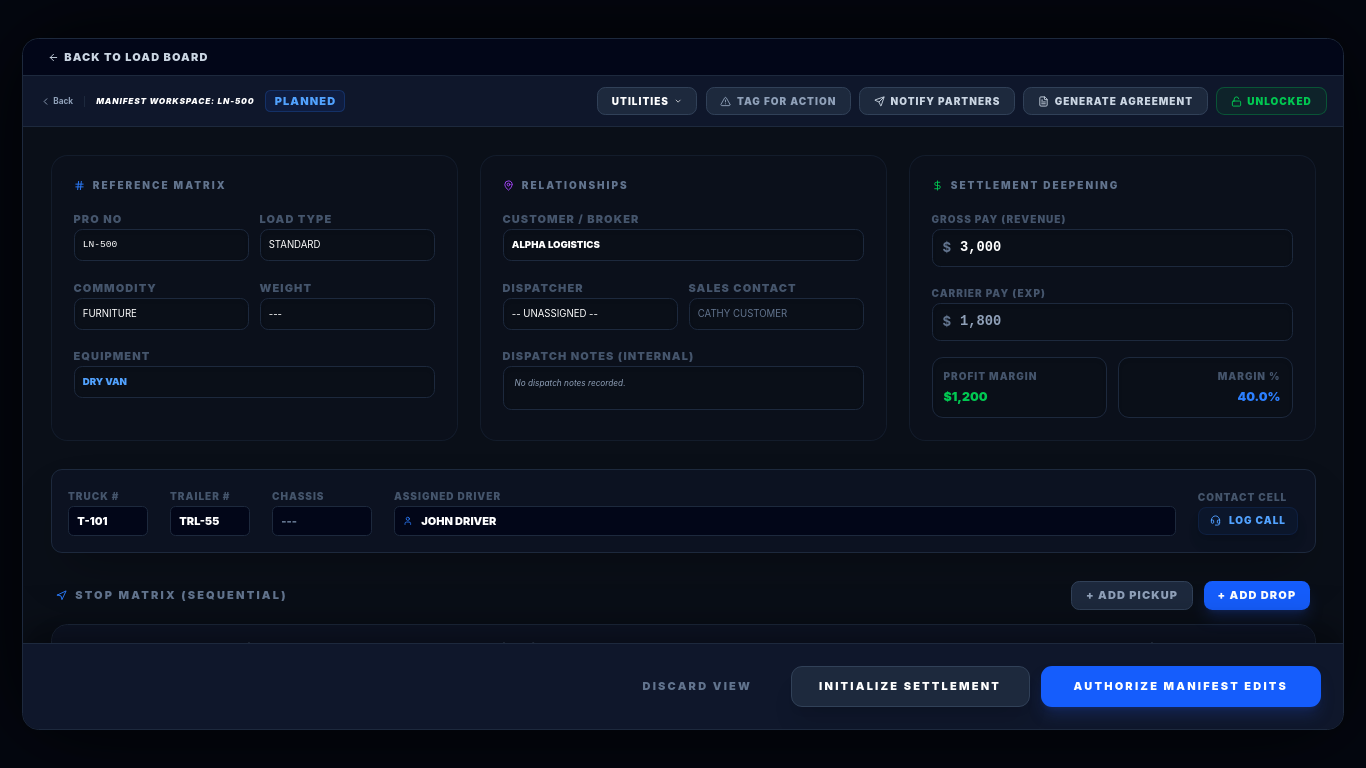
Scenario: LoadDetailView notify partners (STORY-004 Phase 4) › shows a success toast 'Notification sent' when POST returns 200
The image size is (1366, 768).
Click the button "Notify Partners" at (937, 101), box [859,87,1015,115]
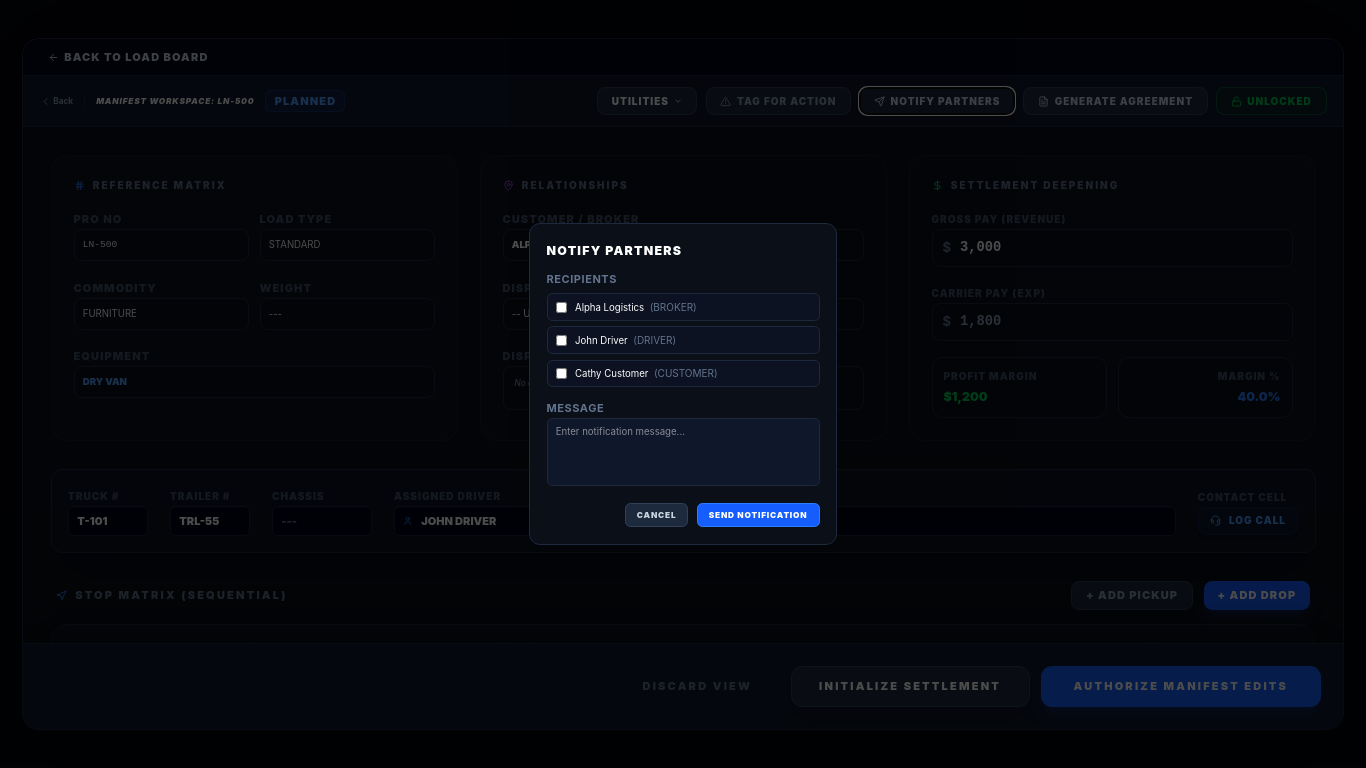
Click the checkbox labelled "Alpha Logistics(broker)" at (561, 307), box [556,302,567,313]
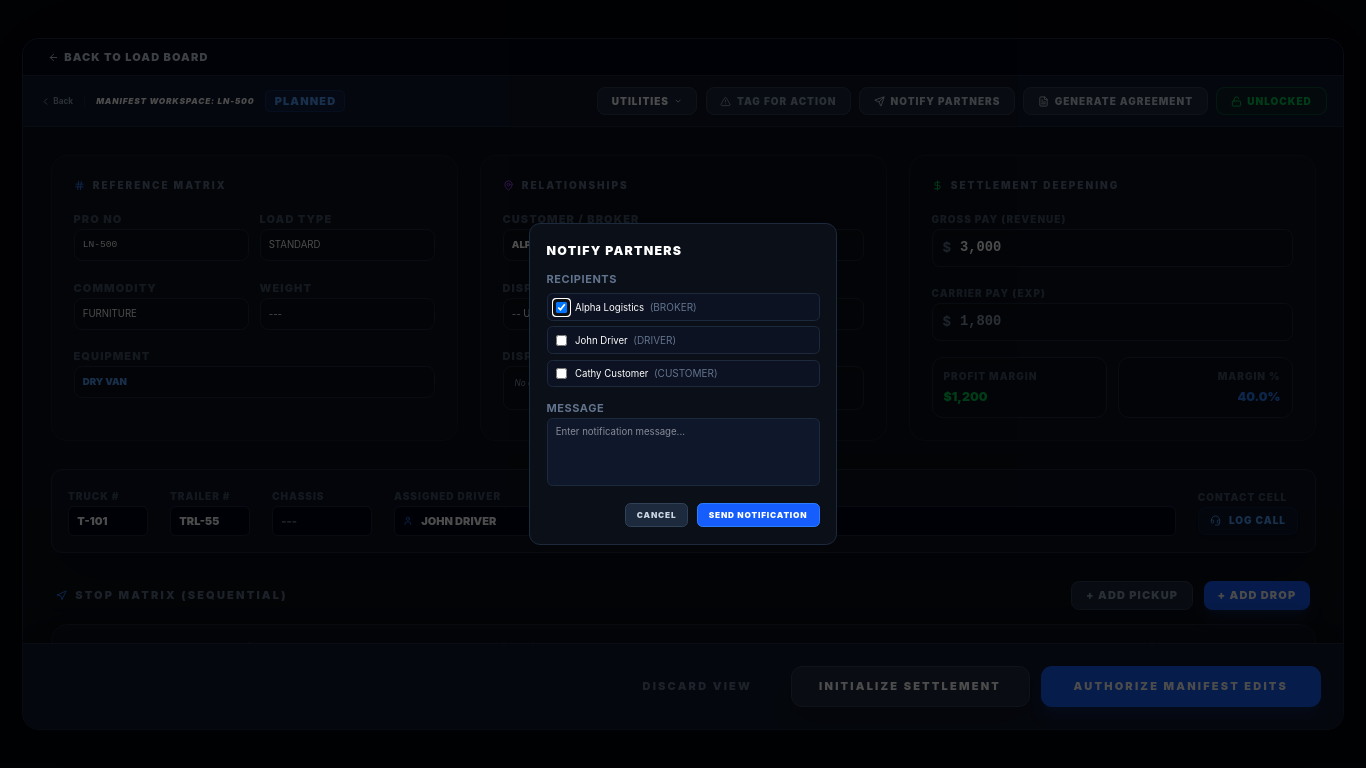
Type "Hello" into the text box labelled "Message" at (683, 452), box [546,418,820,486]
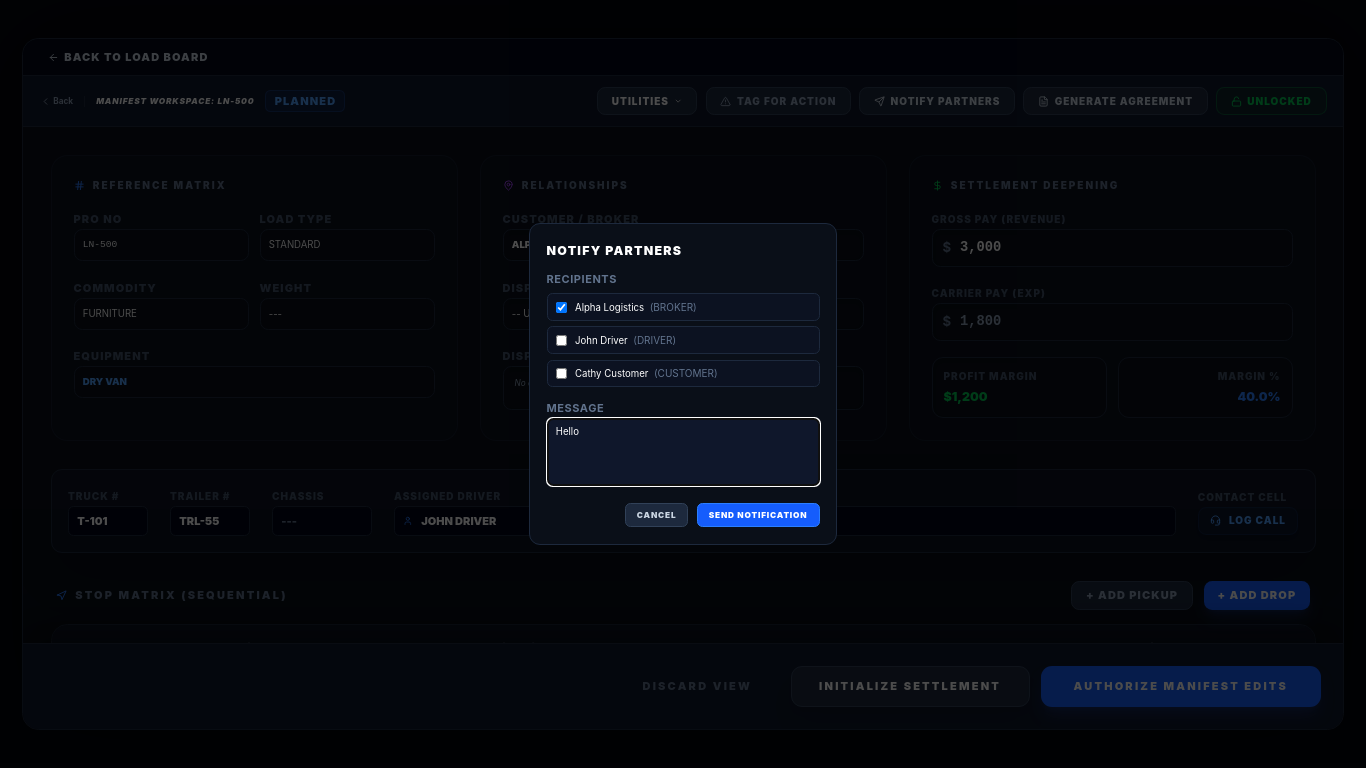
Click the button "Send Notification" at (758, 515), box [697,503,820,527]
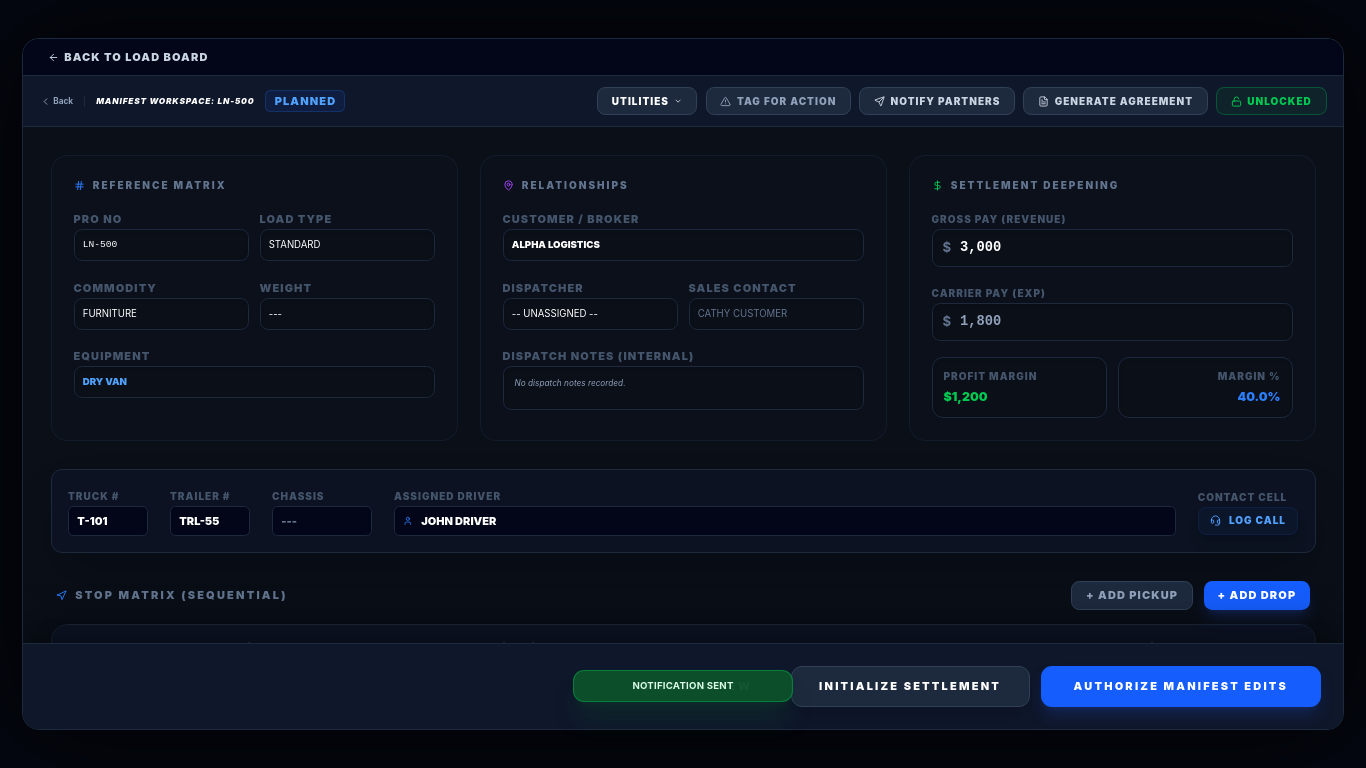
Expected: the text "Notification sent" is shown, [573,670,793,702]
